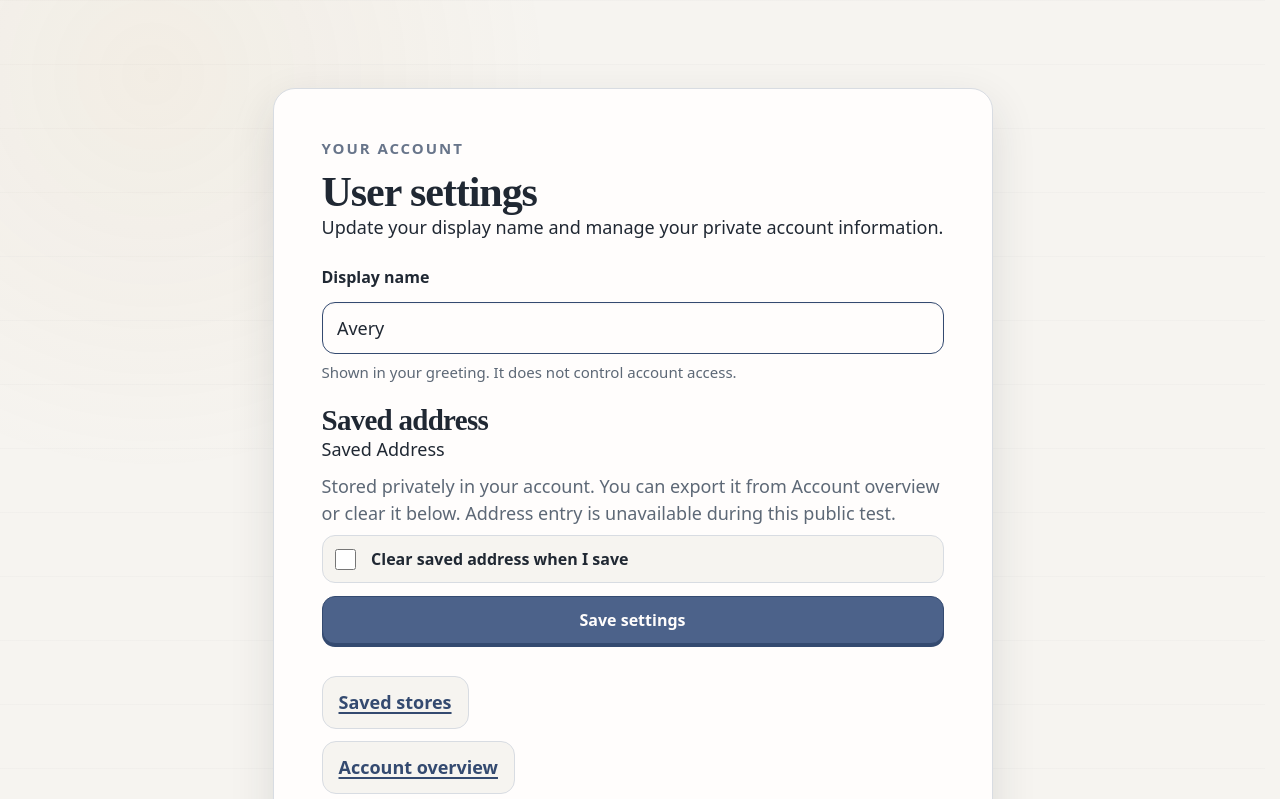
it: UserSettingsPage › retains the saved address after a failed clear and clears it on a successful retry
Expected: the text "Saved Address" is shown, [322, 437, 445, 461]
Click the checkbox labelled "Clear saved address when I save" at {"x": 345, "y": 559}, box [334, 549, 356, 570]
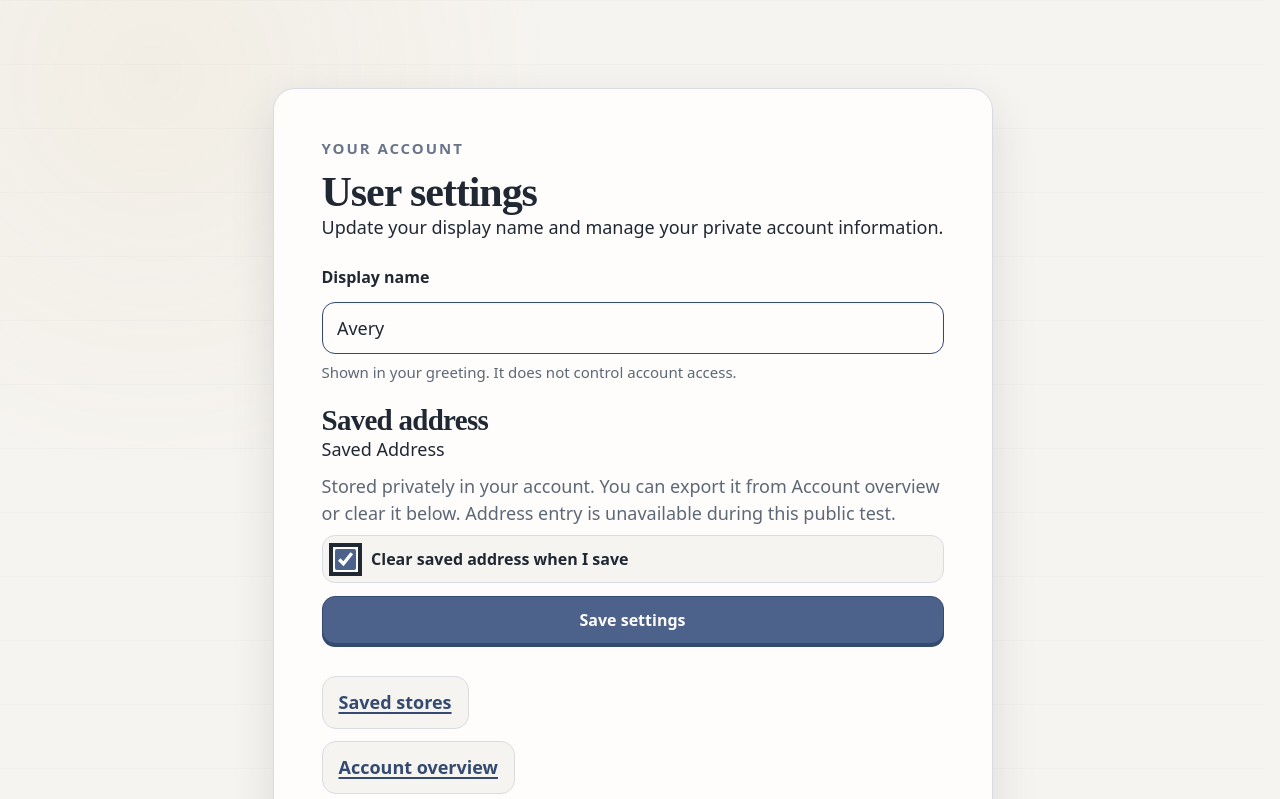
Click the button "Save settings" at {"x": 632, "y": 620}, box [322, 596, 944, 644]
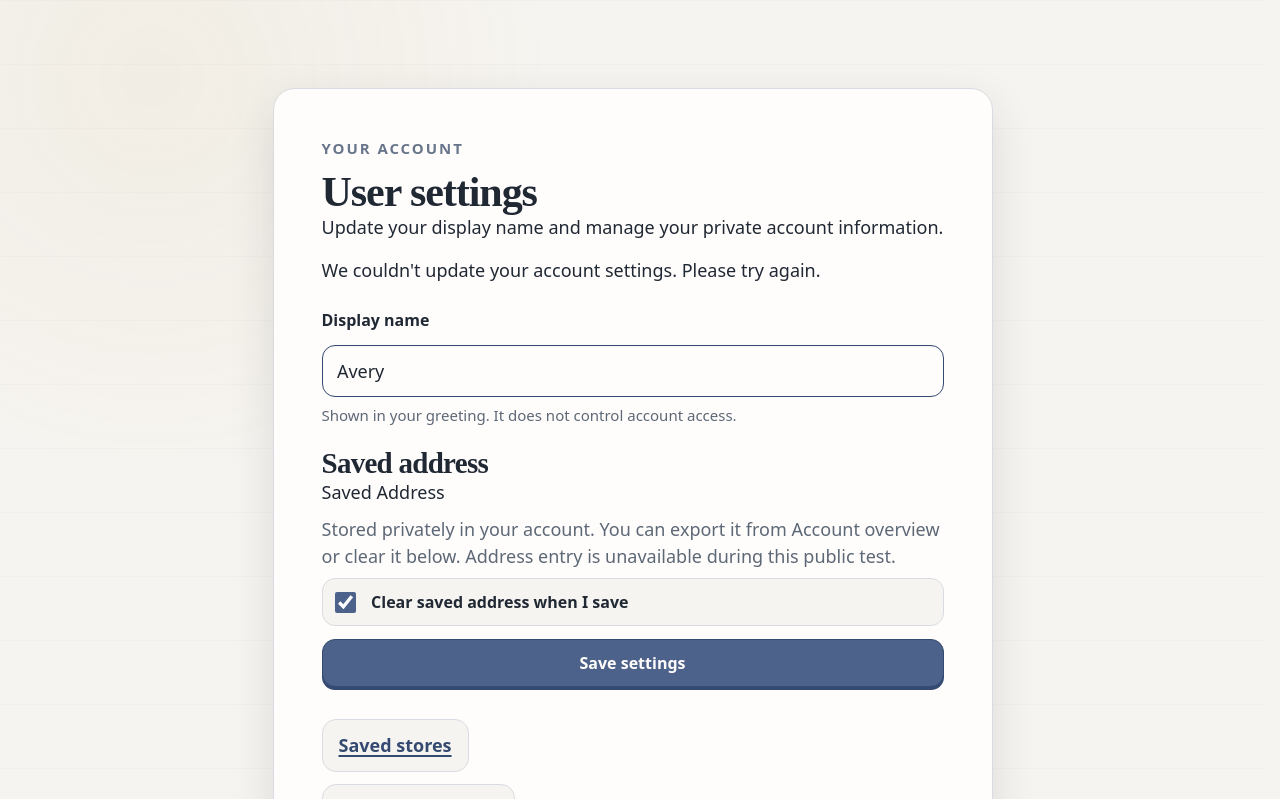
Expected: the text "Saved Address" is shown, [322, 480, 445, 504]
Expected: the message "We couldn't update your account settings. Please try again." is shown, [322, 258, 821, 282]
Click the button "Save settings" at {"x": 632, "y": 663}, box [322, 639, 944, 687]
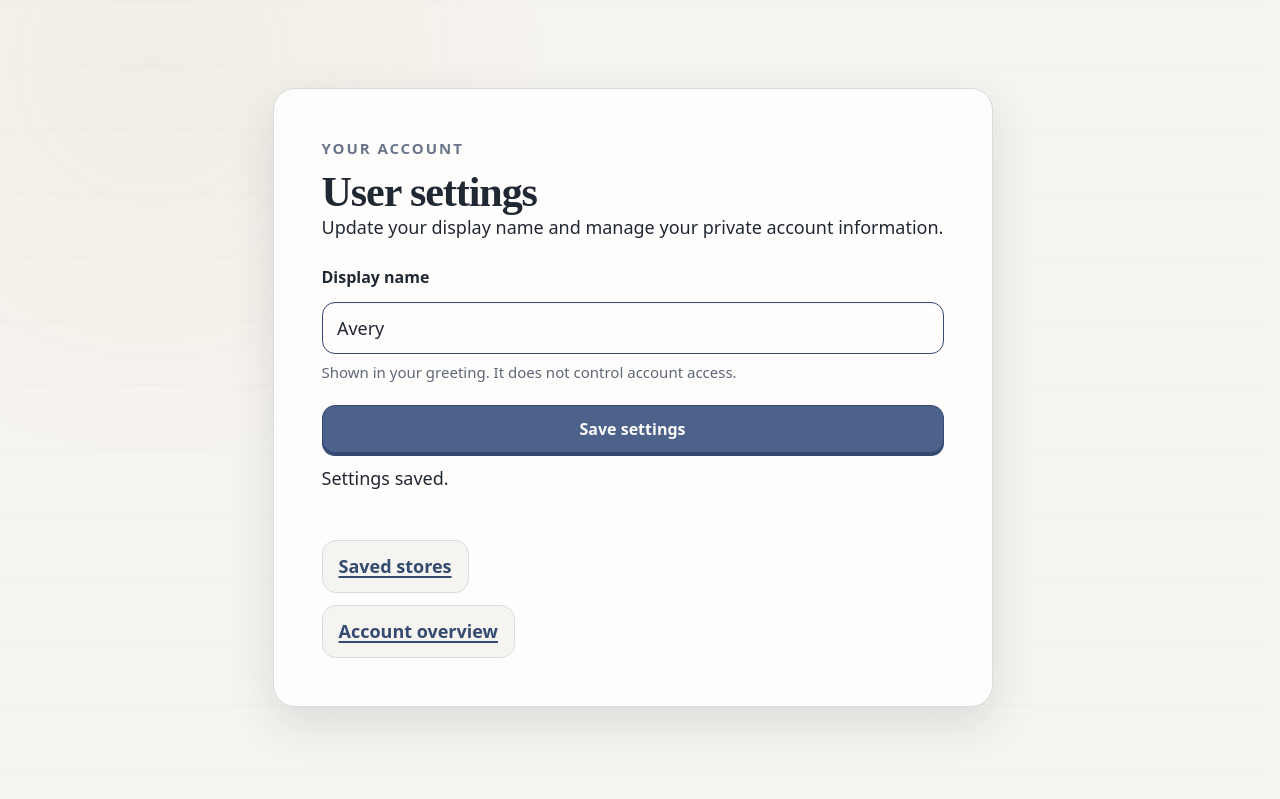
Expected: the text "Settings saved." is shown, [322, 466, 449, 490]
Expected: the heading "Saved address" is gone
Expected: the label "Clear saved address" is gone
